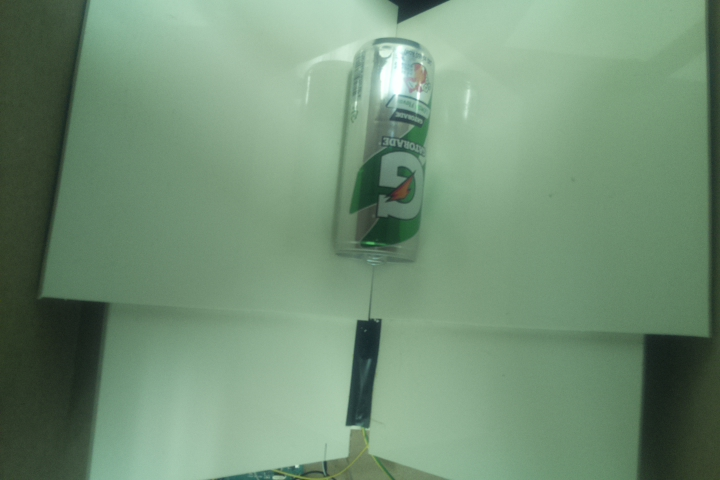can: (328, 36, 436, 270)
